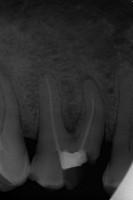Endo-Periodontal Lesion: (61, 103, 83, 134)
